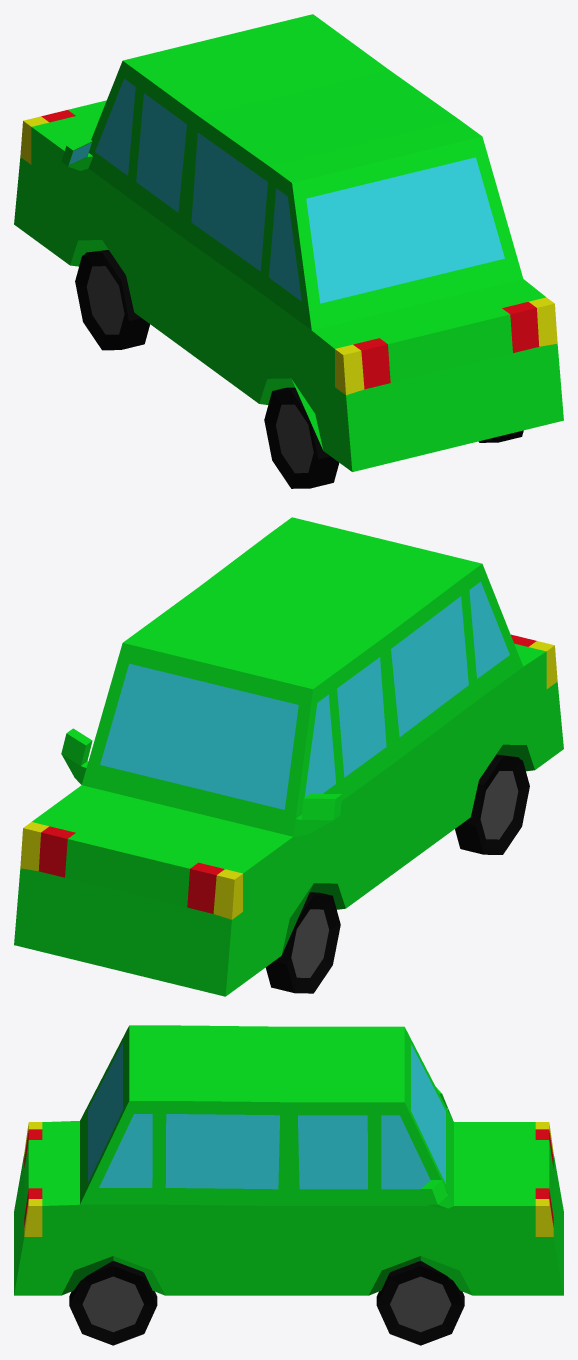
File: car.fbx
3 renders of one model, top to bottom at view 1: azimuth 30°, elevation 25°; view 2: azimuth 150°, elevation 25°; view 3: azimuth 270°, elevation 25°, orthographic. The views are drawn at different scales.
Visible parts, largest first — view 1: car; view 2: car; view 3: car.
Part boxes in pixels (x1=…): car: x1=14, y1=14, x2=563, y2=488; car: x1=14, y1=517, x2=563, y2=996; car: x1=14, y1=1025, x2=563, y2=1345.
Size of the model in its own units: 232 by 241 by 500.
